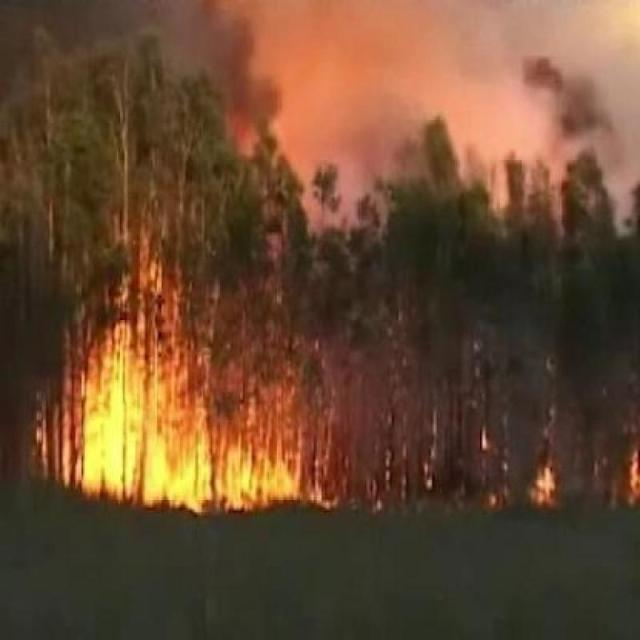Fire: (30, 248, 360, 518), (512, 432, 638, 506)
Smoke: (222, 0, 630, 215)
